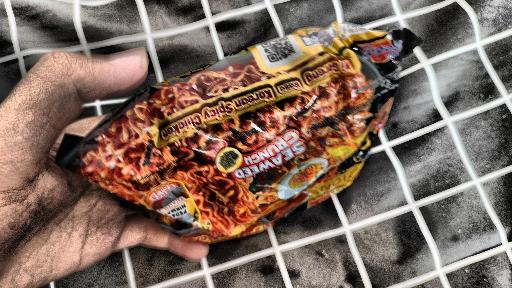mie sedap: (86, 13, 395, 235)
